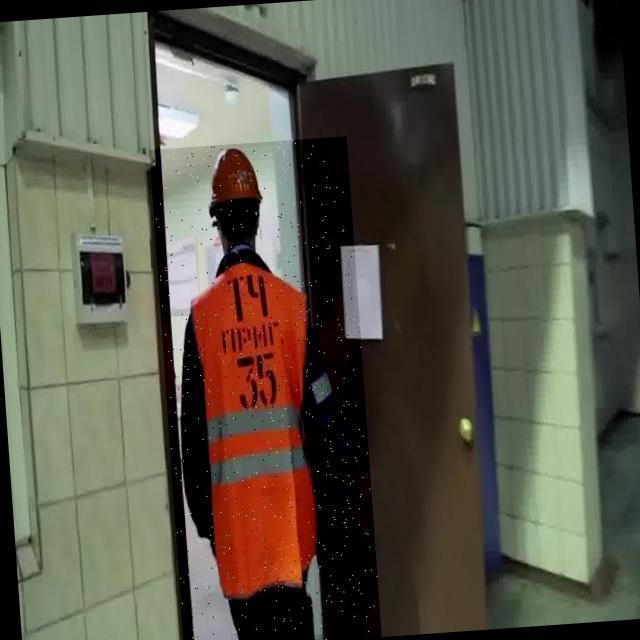Gloves: (303, 493, 350, 567)
Helmet: (206, 144, 263, 212)
Person: (148, 110, 393, 640)
Safety Vest: (188, 256, 329, 601)
